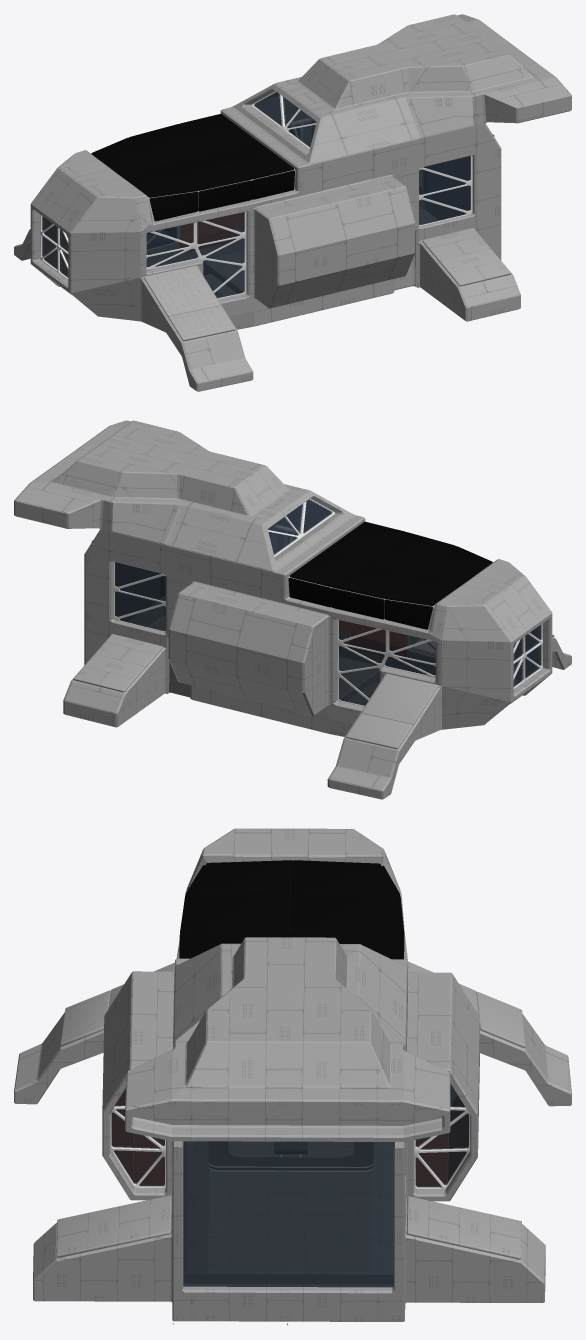
The model's file is spaceship2.glb.
The picture shows the model from 3 angles, top to bottom: view 1: azimuth 30°, elevation 25°; view 2: azimuth 150°, elevation 25°; view 3: azimuth 270°, elevation 25°; orthographic projection. The views are drawn at different scales.
Visible parts, largest first — view 1: hull, hull.013, hull.004, object 11, hull.003, object 12, Plane.001; view 2: hull, hull.013, hull.004, object 10, hull.003, object 12, Plane.001; view 3: hull, Plane.001, hull.013, object 12, hull.004, Plane.002_4, object 10, object 11, hull.003.
Part boxes in pixels (box(x1,y1,x2,y2)): hull: box(14, 14, 571, 391); hull.013: box(91, 114, 294, 221); hull.004: box(42, 92, 470, 298); object 11: box(144, 266, 235, 341); hull.003: box(40, 91, 472, 299); object 12: box(422, 228, 511, 286); Plane.001: box(424, 134, 494, 214); hull: box(14, 420, 571, 799); hull.013: box(288, 521, 492, 629); hull.004: box(115, 499, 540, 705); object 10: box(346, 674, 438, 749); hull.003: box(113, 498, 542, 706); object 12: box(73, 634, 162, 692); Plane.001: box(91, 540, 163, 620); hull: box(14, 828, 571, 1325); Plane.001: box(183, 1141, 393, 1287); hull.013: box(179, 860, 404, 959); object 12: box(56, 1195, 521, 1259); hull.004: box(111, 1083, 468, 1187); Plane.002_4: box(209, 1142, 373, 1171); object 10: box(408, 961, 525, 1047); object 11: box(60, 962, 174, 1046); hull.003: box(110, 1105, 469, 1189).
Size of the model in its own units: 17.04 by 7 by 11.99.
8 materials, 1 textured.
